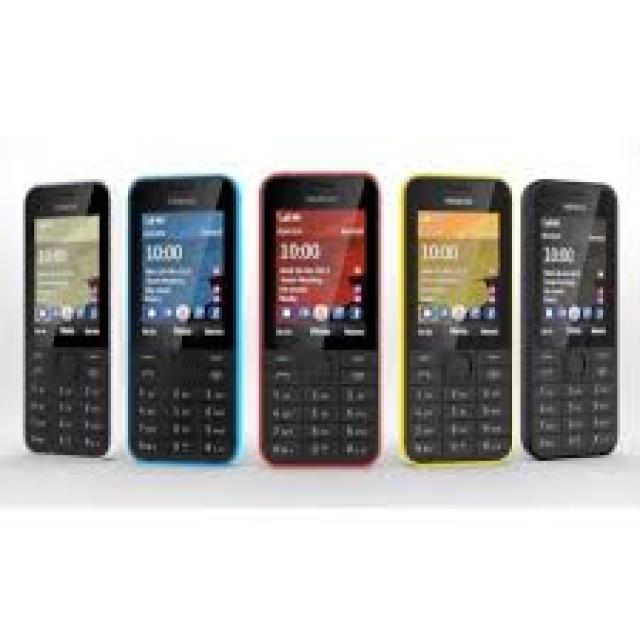mobile phone: (256, 170, 378, 464), (401, 173, 512, 461), (125, 173, 236, 461), (518, 176, 617, 458), (20, 179, 111, 455)
